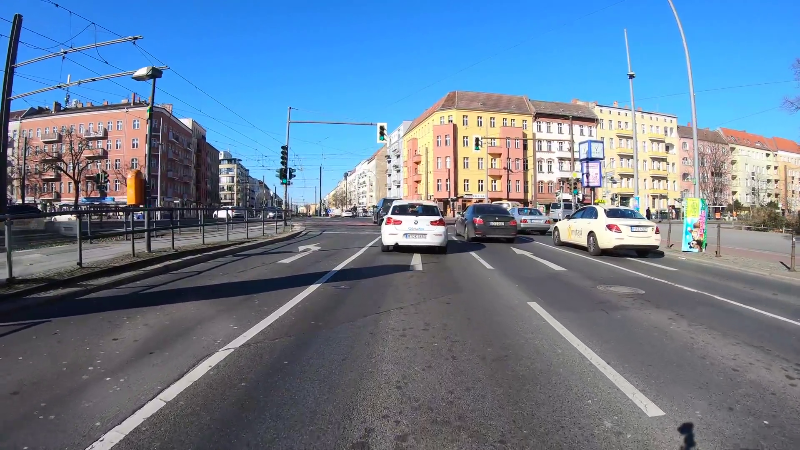Plate: (402, 232, 430, 239), (630, 224, 649, 233), (529, 218, 544, 225), (490, 221, 506, 226)
